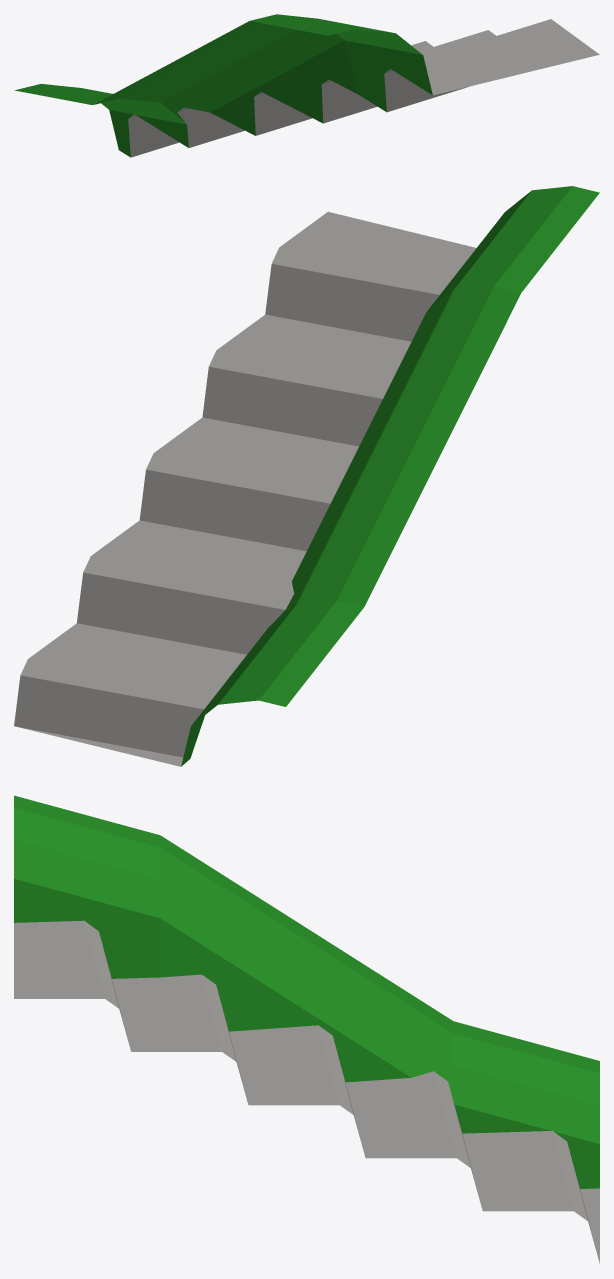
File: Cliff_Terrain_Path_Steps_Grass_Edge.obj
3 renders of one model, top to bottom at view 1: azimuth 30°, elevation 25°; view 2: azimuth 150°, elevation 25°; view 3: azimuth 270°, elevation 25°, orthographic. The views are drawn at different scales.
Parts seen in each view (by area): view 1: object1; view 2: object1; view 3: object1.
Boxes of the visible parts, box(x1,y1,x2,y2) form: object1: box(14, 14, 599, 157); object1: box(14, 186, 599, 766); object1: box(14, 795, 599, 1263).
Bounding box in the file's own units: 1 × 1.3 × 2.
